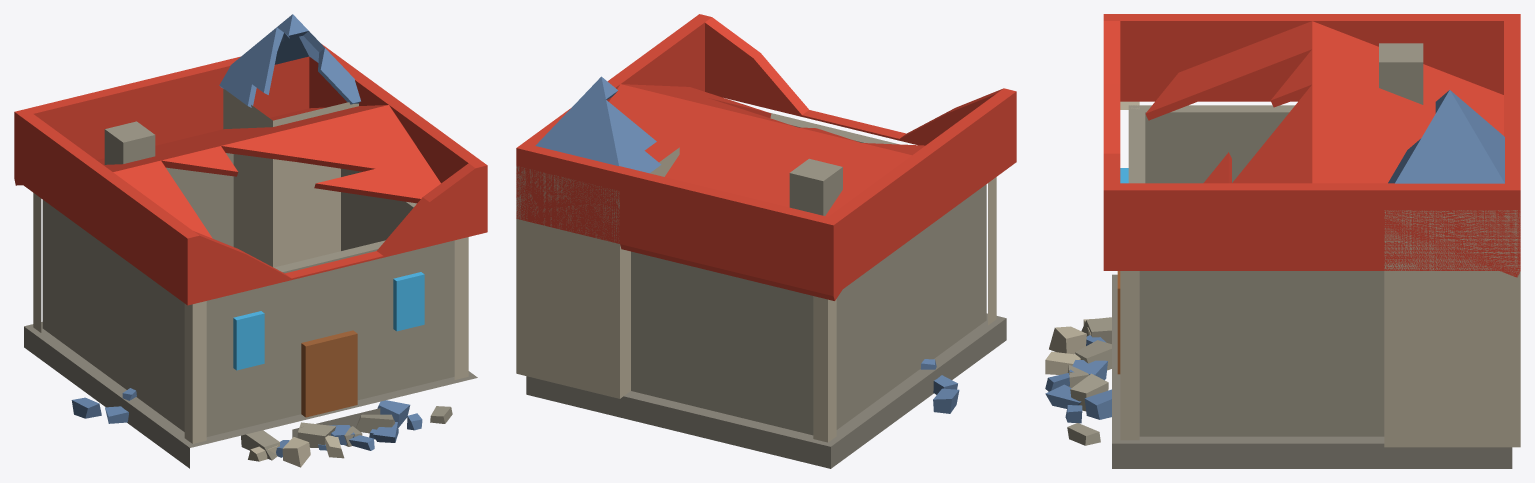
File: house_t3_v1_dmg1.glb
3 renders of one model, left to right at view 1: azimuth 30°, elevation 25°; view 2: azimuth 150°, elevation 25°; view 3: azimuth 270°, elevation 25°, orthographic. The views are drawn at different scales.
Visible parts, largest first — view 1: house_t3_v1_dmg1; view 2: house_t3_v1_dmg1; view 3: house_t3_v1_dmg1.
Boxes of the visible parts, x1,y1,x2,y2 form: house_t3_v1_dmg1: [14, 14, 487, 468]; house_t3_v1_dmg1: [516, 14, 1016, 468]; house_t3_v1_dmg1: [1045, 14, 1520, 468].
Size of the model in its own units: 0.8185 by 0.7 by 0.855.
Materials: 1 (1 with a texture image).
